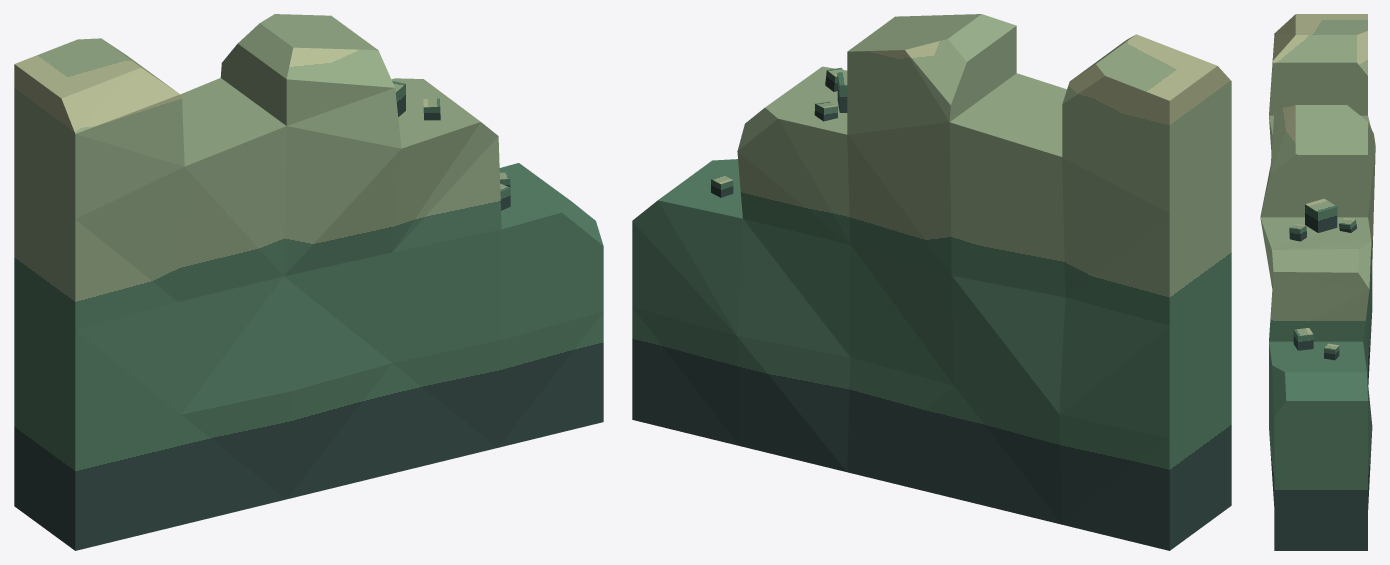
File: Wall 4.003.fbx
3 renders of one model, left to right at view 1: azimuth 30°, elevation 25°; view 2: azimuth 150°, elevation 25°; view 3: azimuth 270°, elevation 25°, orthographic. The views are drawn at different scales.
Visible parts, largest first — view 1: Wall 4.003; view 2: Wall 4.003; view 3: Wall 4.003.
Part boxes in pixels (bbox=[...]): Wall 4.003: bbox=[14, 14, 603, 550]; Wall 4.003: bbox=[632, 14, 1231, 550]; Wall 4.003: bbox=[1260, 14, 1375, 550].
Size of the model in its own units: 500 by 410 by 123.
